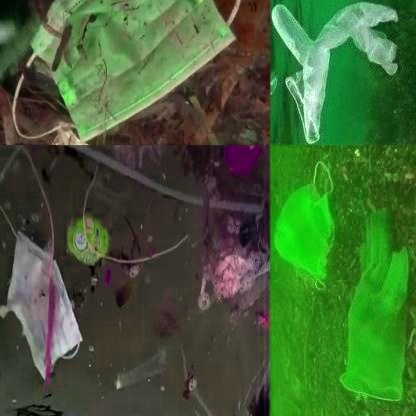Mask: (12, 0, 242, 142), (0, 151, 101, 415), (272, 161, 338, 290)
glove: (270, 1, 402, 144), (340, 204, 415, 404)
